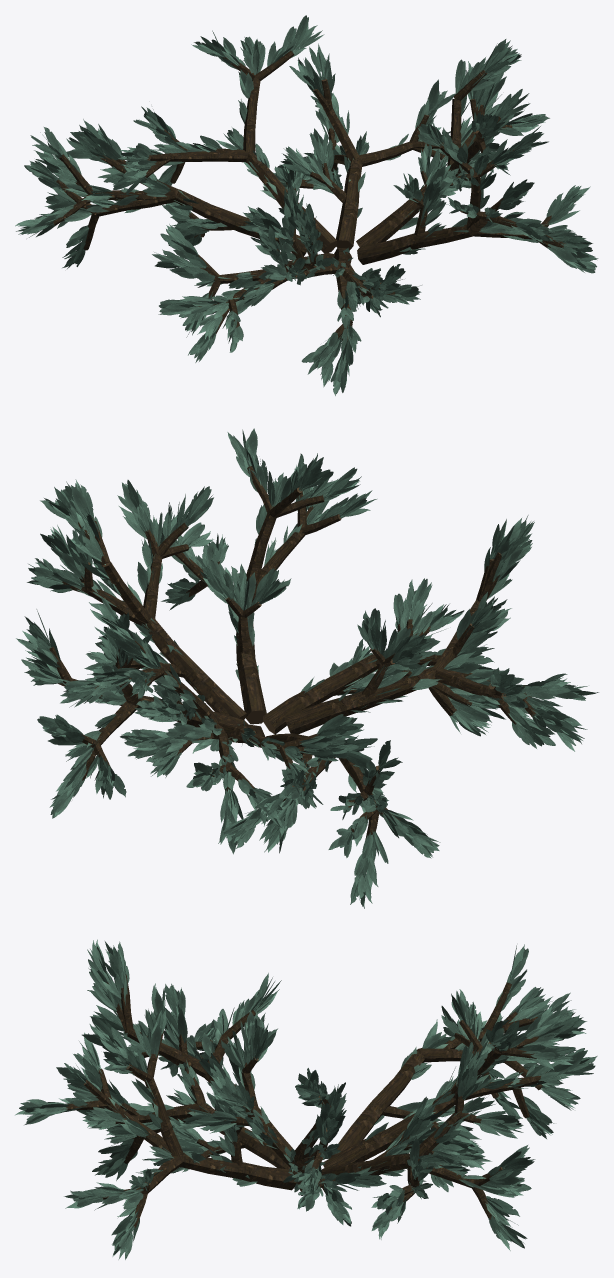
The model's file is juniper_low_v01.fbx.
3 renders of one model, top to bottom at view 1: azimuth 30°, elevation 25°; view 2: azimuth 150°, elevation 25°; view 3: azimuth 270°, elevation 25°, orthographic. The views are drawn at different scales.
Visible parts, largest first — view 1: juniper_low_v01; view 2: juniper_low_v01; view 3: juniper_low_v01.
Part boxes in pixels (<box>): juniper_low_v01: <box>15,15,598,395</box>; juniper_low_v01: <box>16,428,598,908</box>; juniper_low_v01: <box>15,939,597,1259</box>.
Size of the model in its own units: 106 by 53.52 by 109.
Materials: 2 (2 with a texture image).
